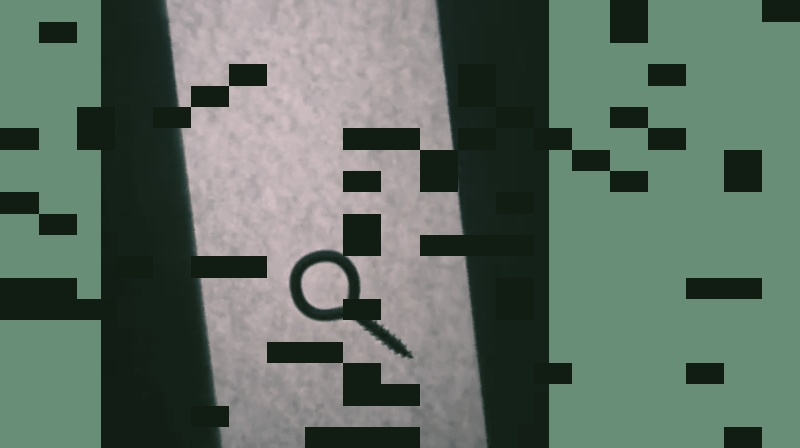O001: (286, 244, 420, 360)
